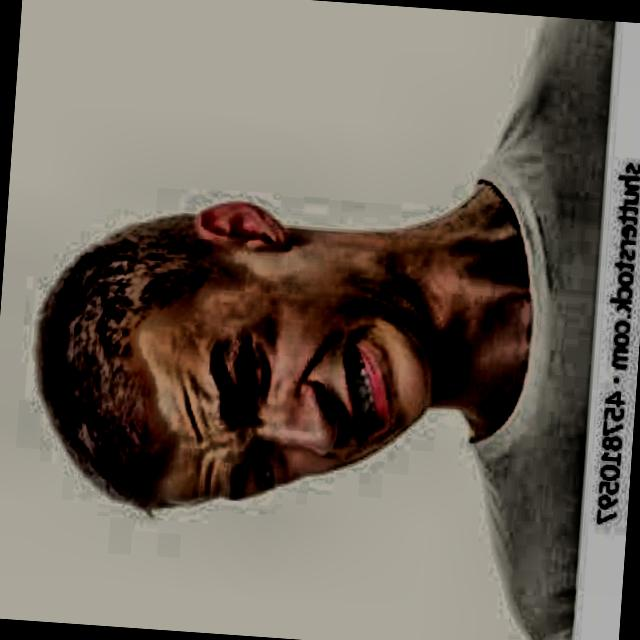disgust: (0, 136, 541, 555)
